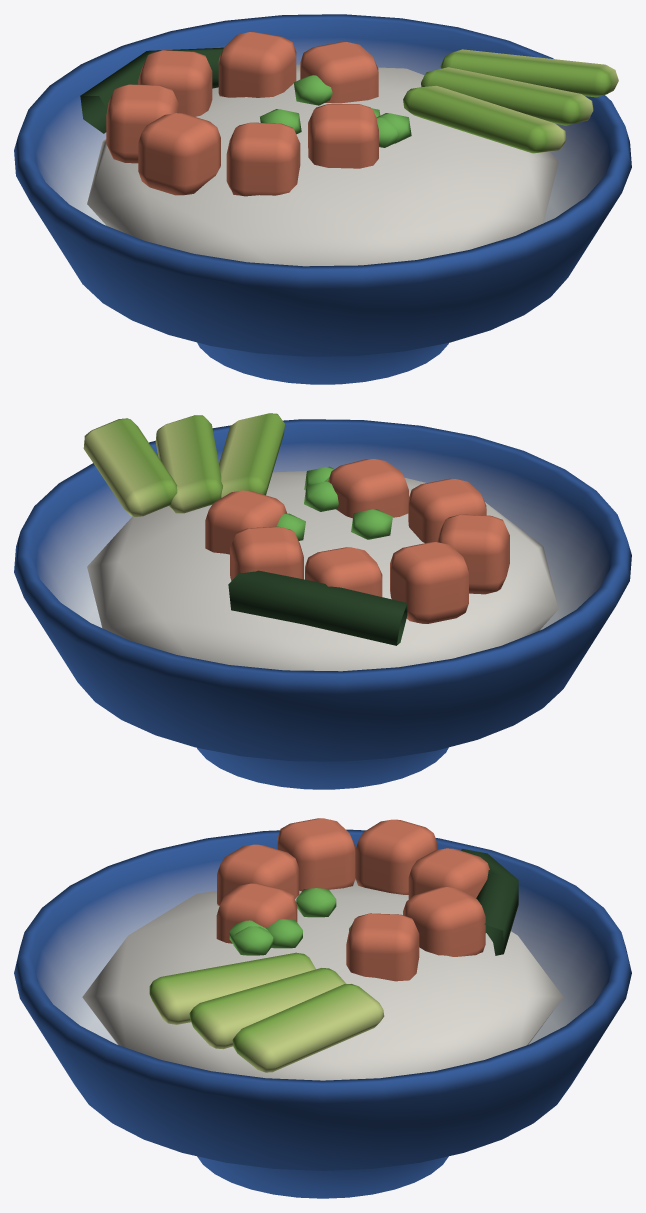
Rendered from item_dish_salmon_poke.glb.
3 views of the same model, one above another, from view 1: azimuth 30°, elevation 25°; view 2: azimuth 150°, elevation 25°; view 3: azimuth 270°, elevation 25° (orthographic).
Visible parts, largest first — view 1: item_dish_salmon_poke_main; view 2: item_dish_salmon_poke_main; view 3: item_dish_salmon_poke_main.
Part boxes in pixels (left/top/right/bottom): item_dish_salmon_poke_main: left=14, top=14, right=631, bottom=384; item_dish_salmon_poke_main: left=14, top=413, right=631, bottom=789; item_dish_salmon_poke_main: left=14, top=818, right=631, bottom=1198.
Bounding box in the file's own units: 0.21 × 0.092 × 0.21.
